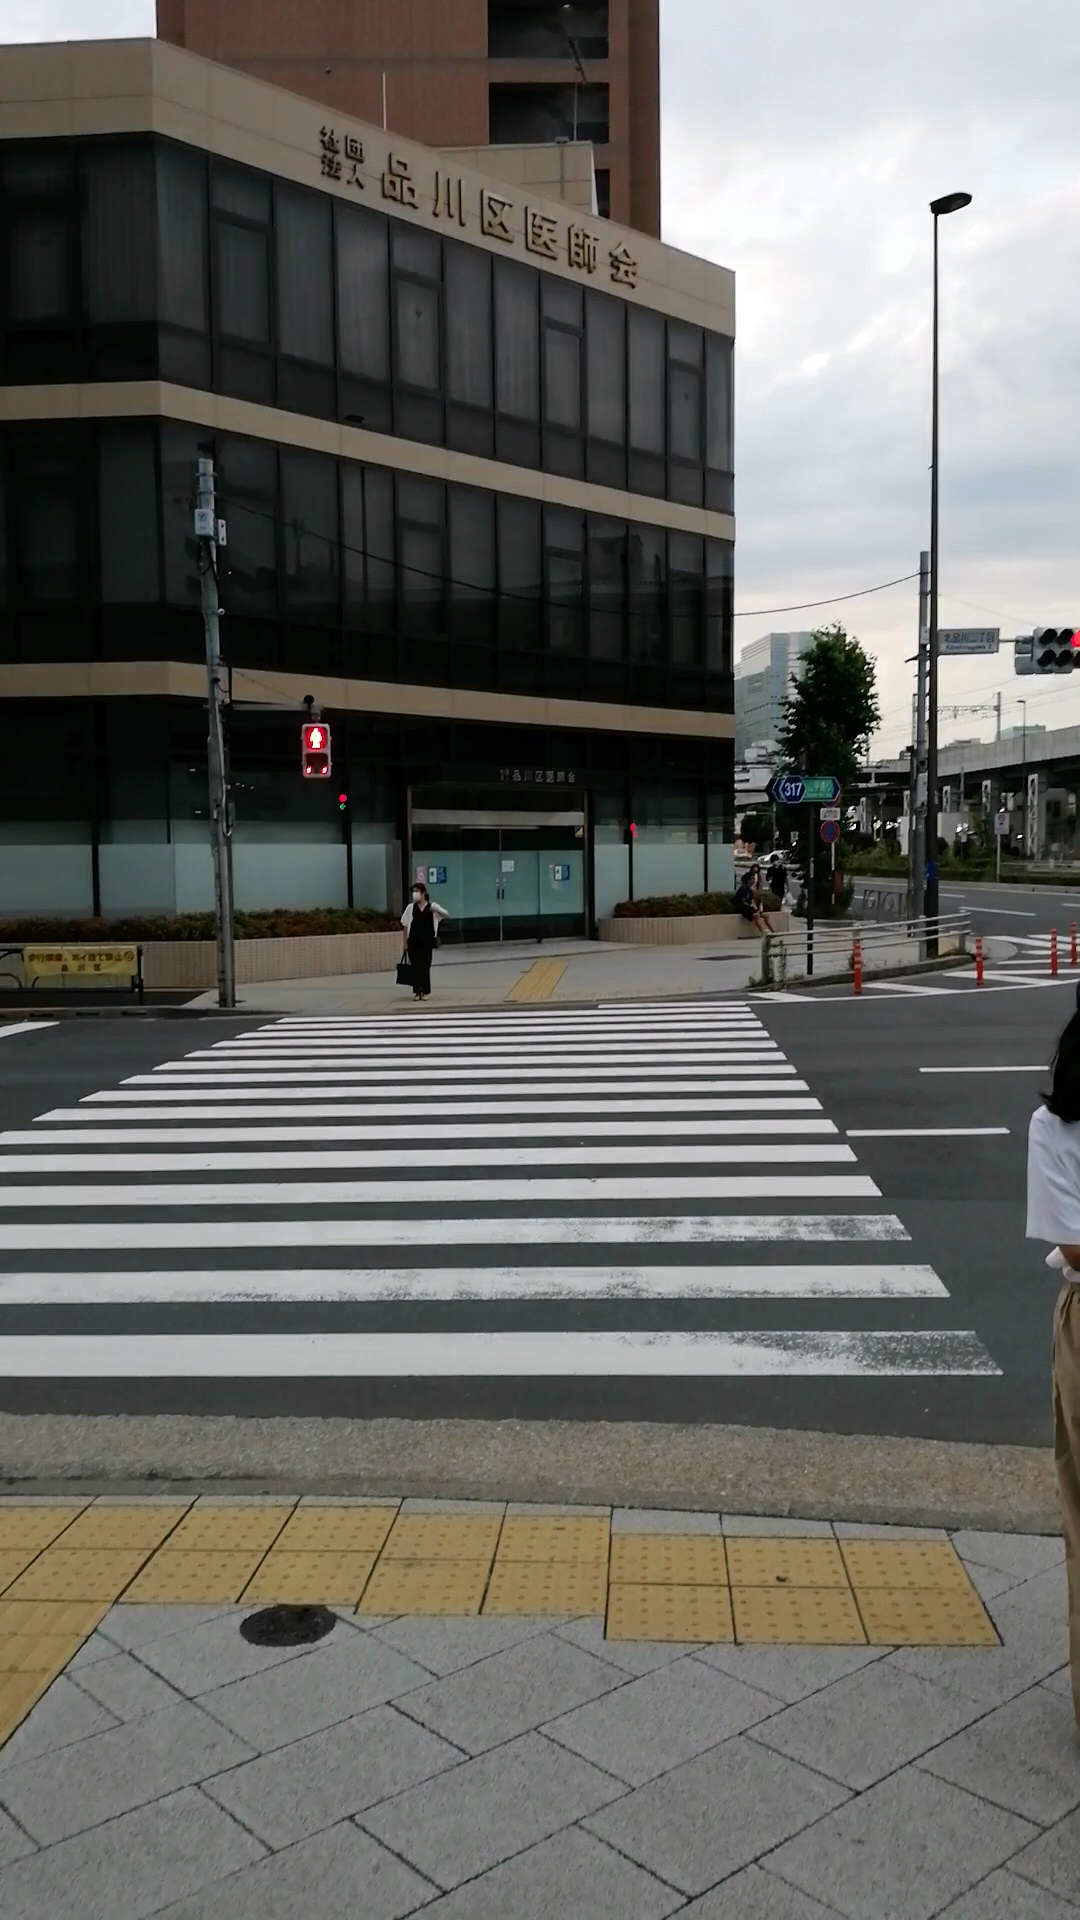red: (299, 723, 334, 777)
